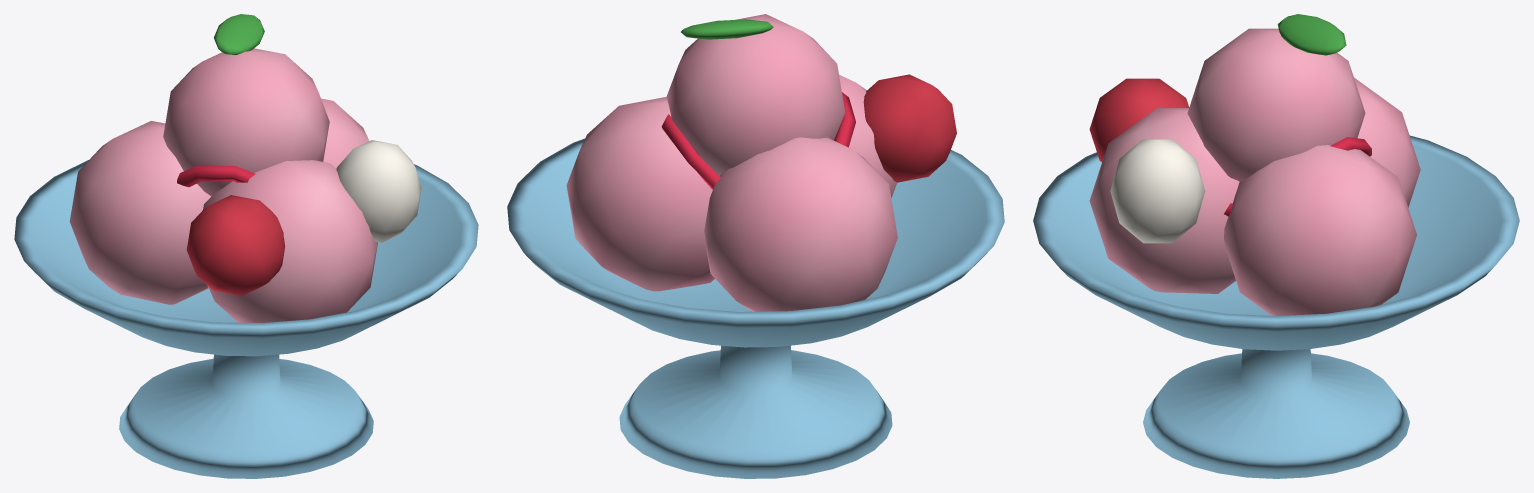
Rendered from item_dish_lychee_ice.glb.
The picture shows the model from 3 angles, left to right: view 1: azimuth 30°, elevation 25°; view 2: azimuth 150°, elevation 25°; view 3: azimuth 270°, elevation 25°; orthographic projection. The views are drawn at different scales.
Visible parts, largest first — view 1: item_dish_lychee_ice_main, item_dish_lychee_ice_gloss; view 2: item_dish_lychee_ice_main, item_dish_lychee_ice_gloss; view 3: item_dish_lychee_ice_gloss, item_dish_lychee_ice_main.
Part boxes in pixels (left/top/right/bottom): item_dish_lychee_ice_main: left=69, top=14, right=377, bottom=322; item_dish_lychee_ice_gloss: left=14, top=140, right=478, bottom=478; item_dish_lychee_ice_main: left=566, top=14, right=956, bottom=311; item_dish_lychee_ice_gloss: left=507, top=92, right=1004, bottom=478; item_dish_lychee_ice_gloss: left=1033, top=135, right=1519, bottom=478; item_dish_lychee_ice_main: left=1089, top=14, right=1420, bottom=315.
Bounding box in the file's own units: 0.164 × 0.1496 × 0.164.
